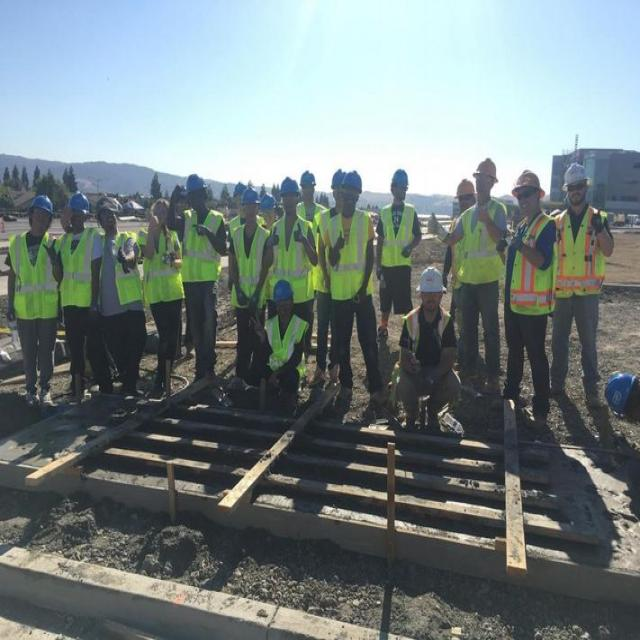Reflective-Jacket: (554, 204, 608, 302), (508, 212, 556, 314), (9, 229, 60, 323), (324, 211, 373, 304), (398, 308, 454, 388), (454, 203, 505, 287), (58, 228, 100, 311), (230, 221, 269, 310), (378, 203, 418, 271)
Safety-Helmet: (510, 166, 544, 193), (332, 166, 364, 194), (416, 266, 446, 294), (562, 160, 590, 187), (182, 169, 209, 196), (472, 155, 500, 180), (29, 191, 56, 215), (67, 190, 91, 216), (270, 278, 293, 302), (240, 188, 260, 206)
